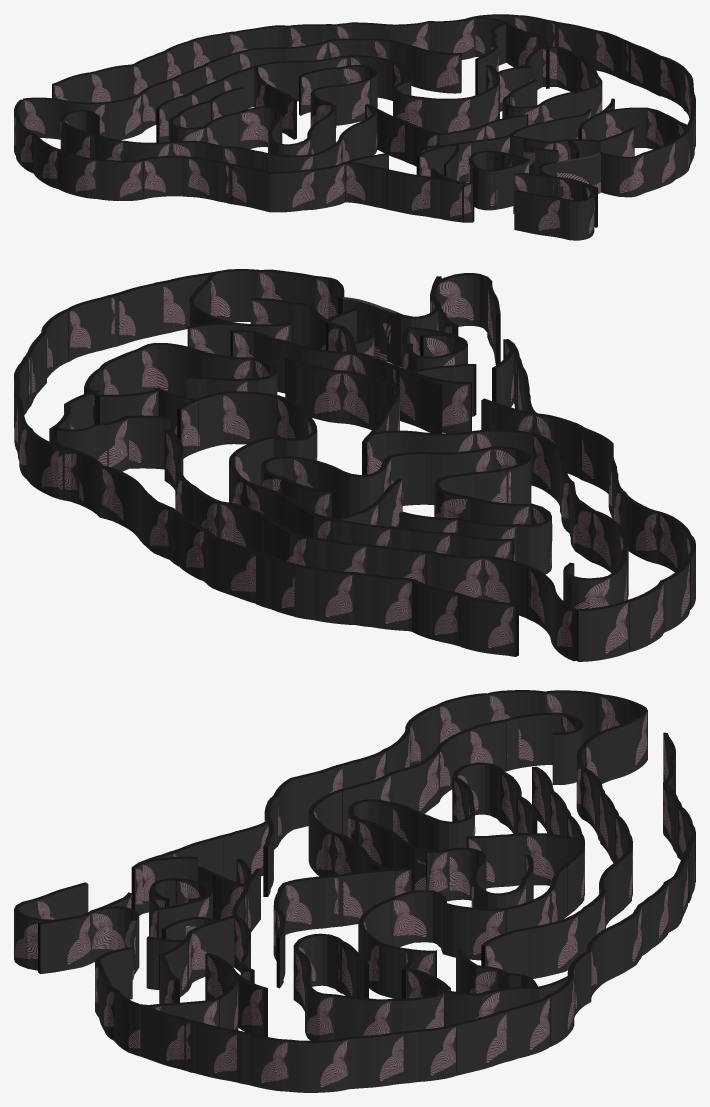
File: wallsMaze1 (1).fbx
3 renders of one model, top to bottom at view 1: azimuth 30°, elevation 25°; view 2: azimuth 150°, elevation 25°; view 3: azimuth 270°, elevation 25°, orthographic. The views are drawn at different scales.
Visible parts, largest first — view 1: Wals; view 2: Wals; view 3: Wals.
Part boxes in pixels (x1,y1,x2,y2): Wals: (14, 14, 695, 240); Wals: (14, 269, 695, 661); Wals: (14, 690, 695, 1092).
Size of the model in its own units: 3017 by 201 by 2465.
